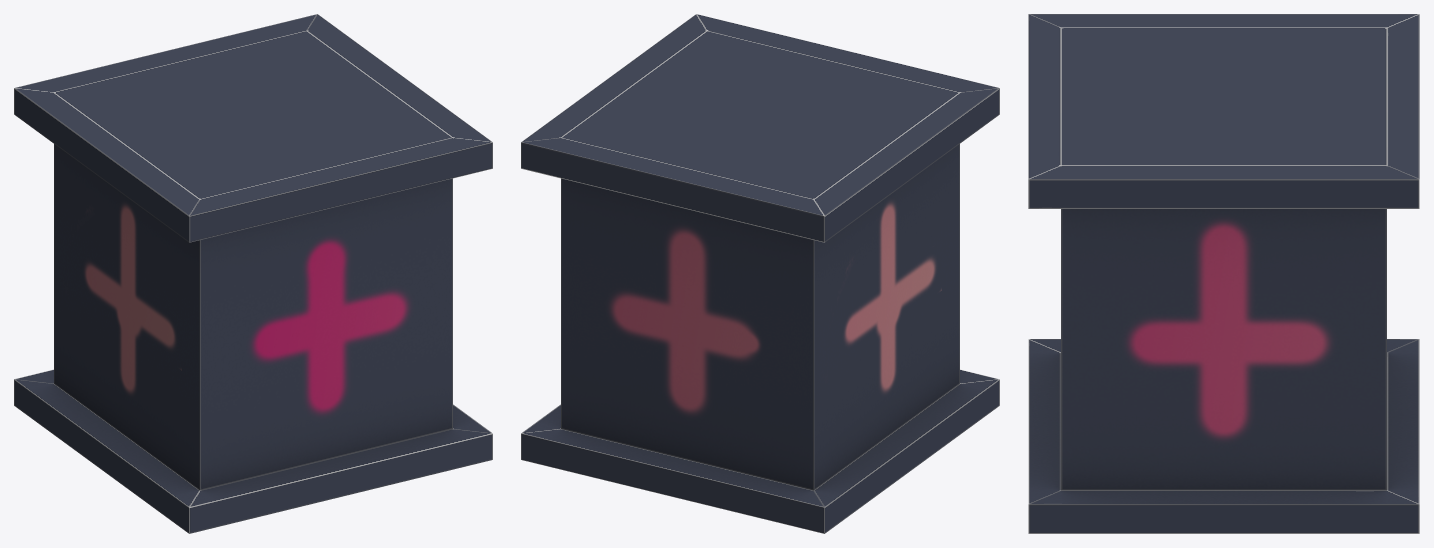
Rendered from HealthCrate.fbx.
3 renders of one model, left to right at view 1: azimuth 30°, elevation 25°; view 2: azimuth 150°, elevation 25°; view 3: azimuth 270°, elevation 25°, orthographic. The views are drawn at different scales.
Visible parts, largest first — view 1: pHealthCrate; view 2: pHealthCrate; view 3: pHealthCrate.
Boxes of the visible parts, bbox=[...] form: pHealthCrate: bbox=[14, 14, 492, 533]; pHealthCrate: bbox=[521, 14, 999, 533]; pHealthCrate: bbox=[1028, 14, 1419, 533].
Size of the model in its own units: 120 by 120 by 120.
1 material, 1 textured.
